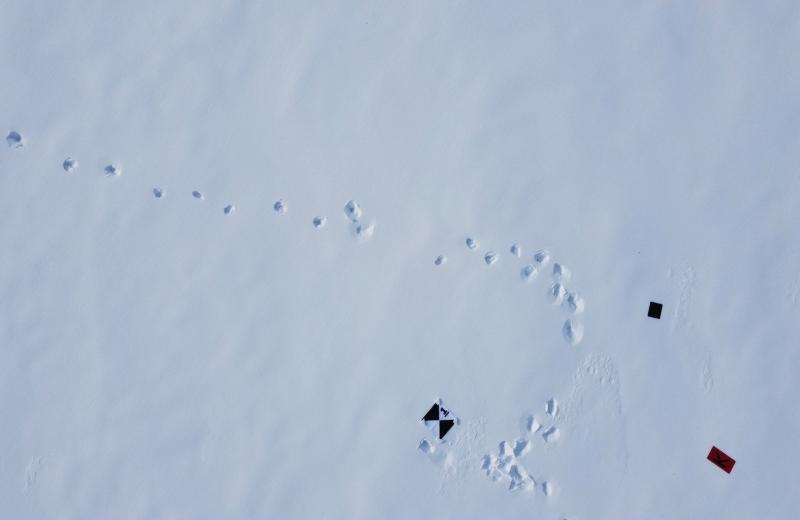Rectangle: (705, 441, 740, 475)
Square: (643, 296, 665, 322)
